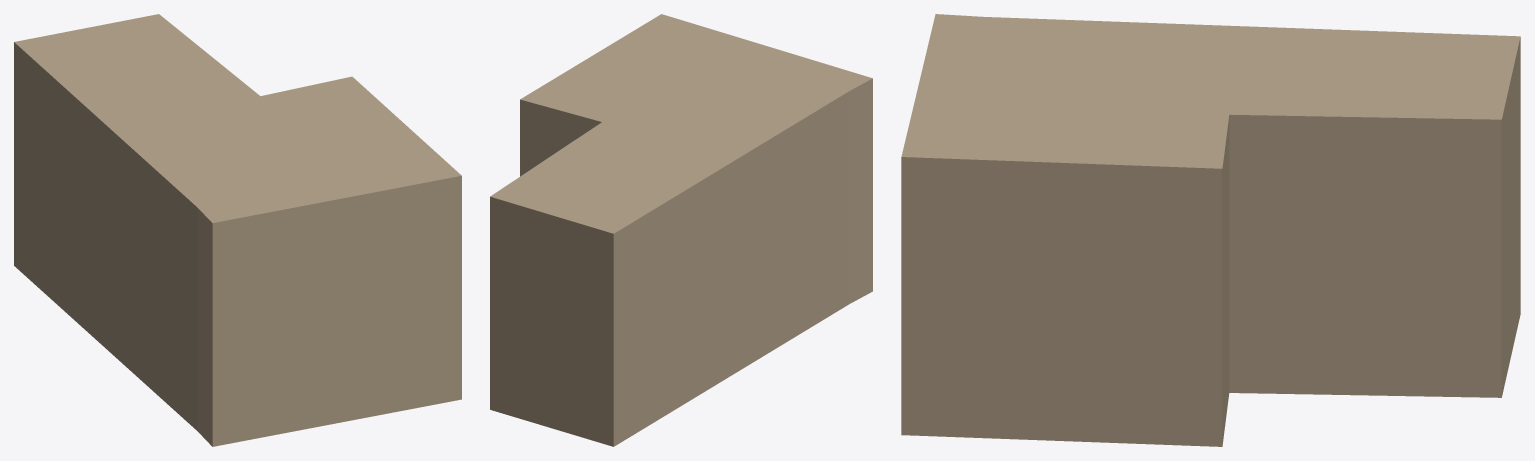
File: bld_98640375.dae
The picture shows the model from 3 angles, left to right: view 1: azimuth 30°, elevation 25°; view 2: azimuth 150°, elevation 25°; view 3: azimuth 270°, elevation 25°; orthographic projection. The views are drawn at different scales.
Visible parts, largest first — view 1: Gnome Coffee; view 2: Gnome Coffee; view 3: Gnome Coffee.
Boxes of the visible parts, x1=… form: Gnome Coffee: x1=14, y1=14, x2=461, y2=446; Gnome Coffee: x1=490, y1=14, x2=872, y2=446; Gnome Coffee: x1=901, y1=14, x2=1520, y2=446.
Size of the model in its own units: 9.55 by 16.14 by 8.
